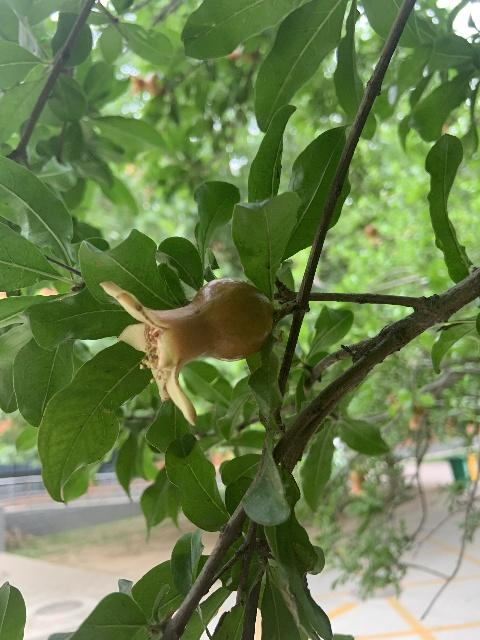early-fruit: (100, 277, 273, 425), (363, 224, 380, 244)
